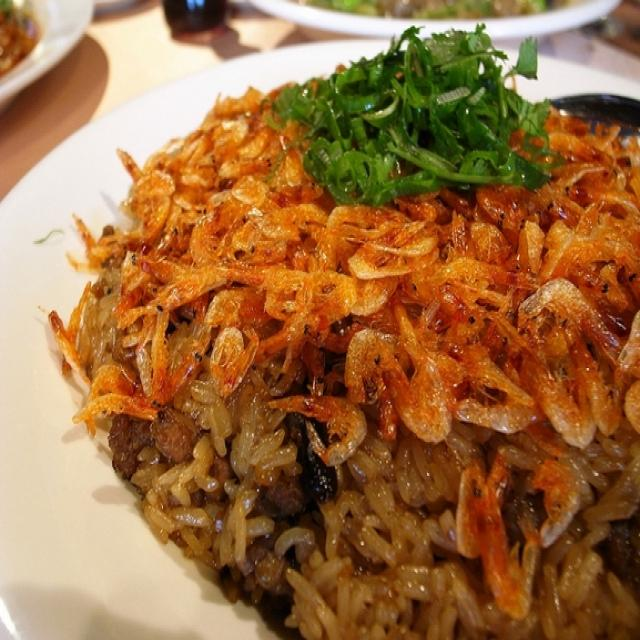米饭主食: (61, 21, 631, 612)
